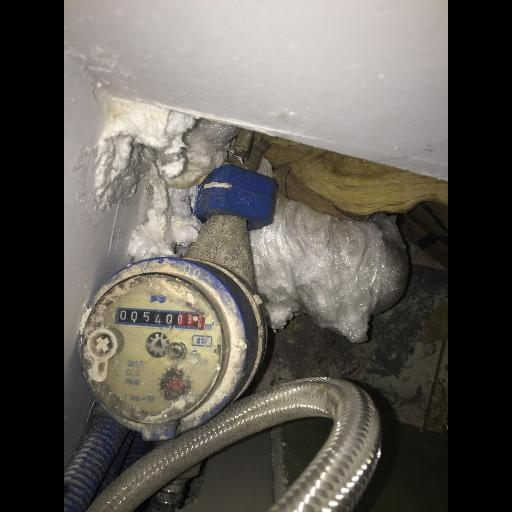0: (163, 313, 177, 326), (129, 310, 141, 323), (119, 309, 130, 322), (176, 313, 187, 326)
3: (187, 313, 196, 327)
4: (194, 314, 206, 331), (152, 312, 164, 325)
5: (140, 311, 153, 324)
border_water_meter_number: (115, 306, 208, 331)
